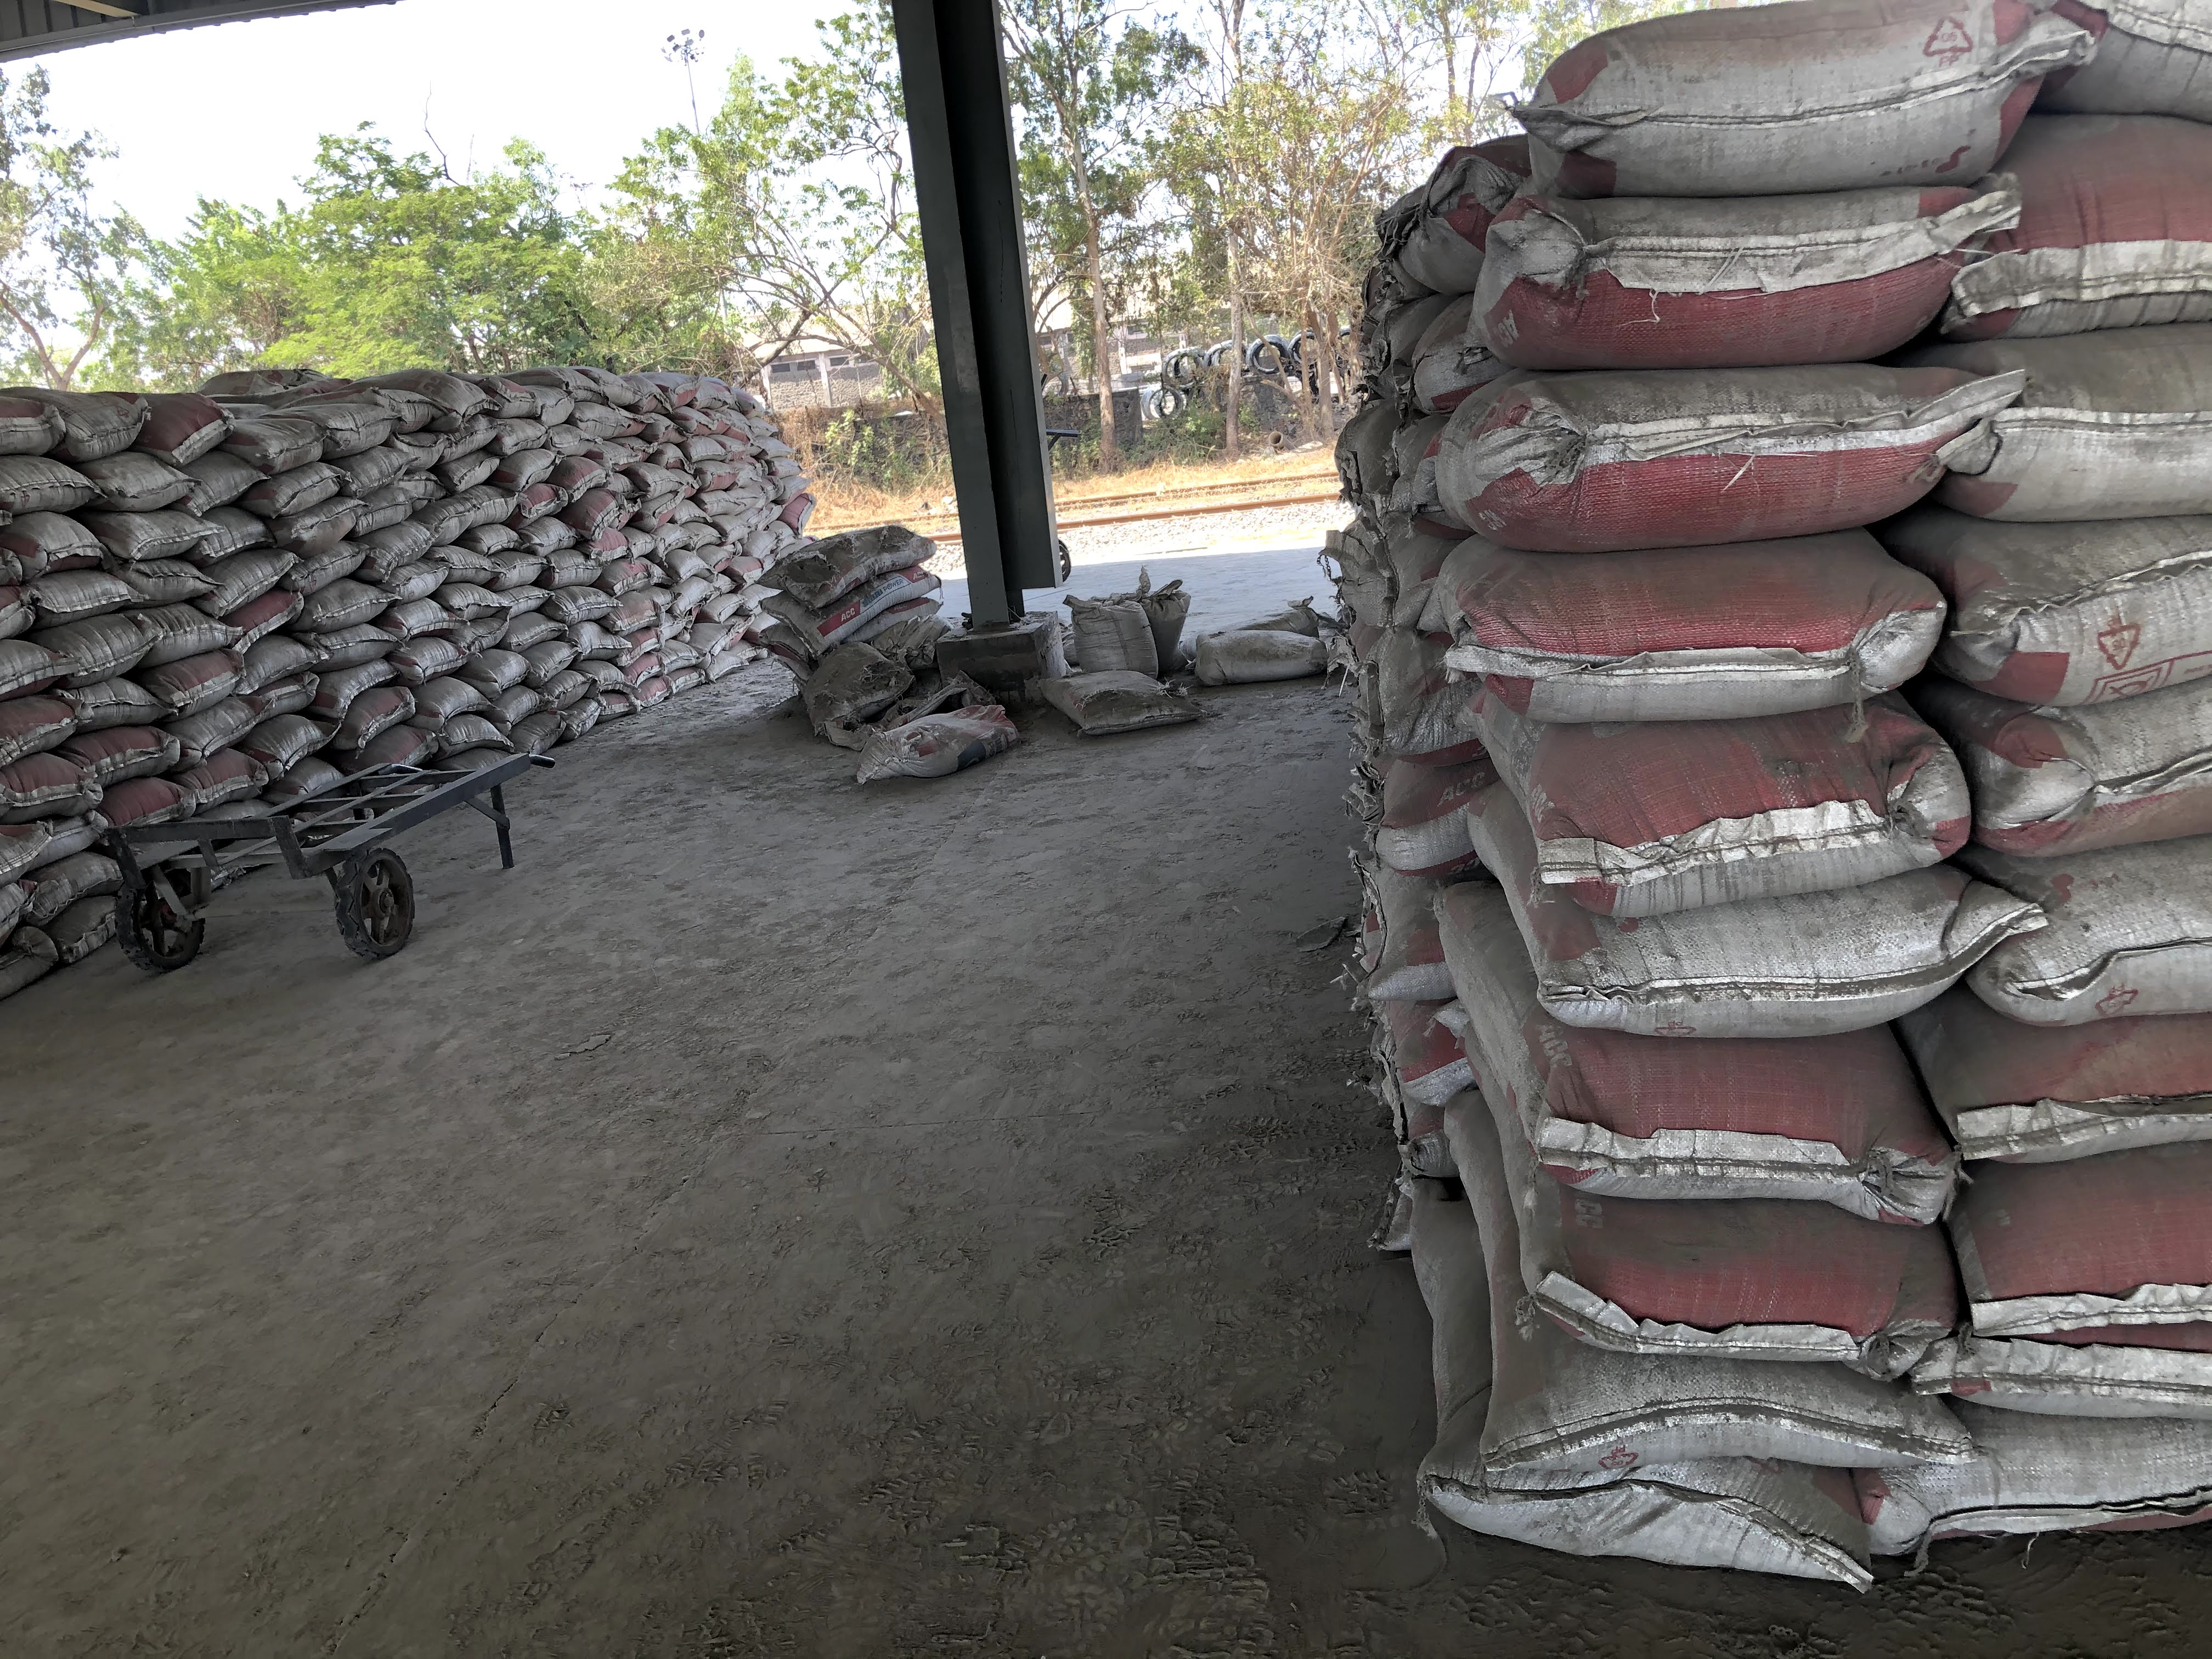cement bag: (1458, 528, 1966, 721), (1501, 148, 2006, 342), (1470, 373, 1966, 528), (1571, 1028, 1933, 1229), (1505, 713, 1958, 866), (1571, 866, 1958, 1028), (1414, 1462, 1933, 1568), (1510, 45, 2006, 148), (1543, 1333, 1933, 1462), (1543, 1229, 1933, 1333)
